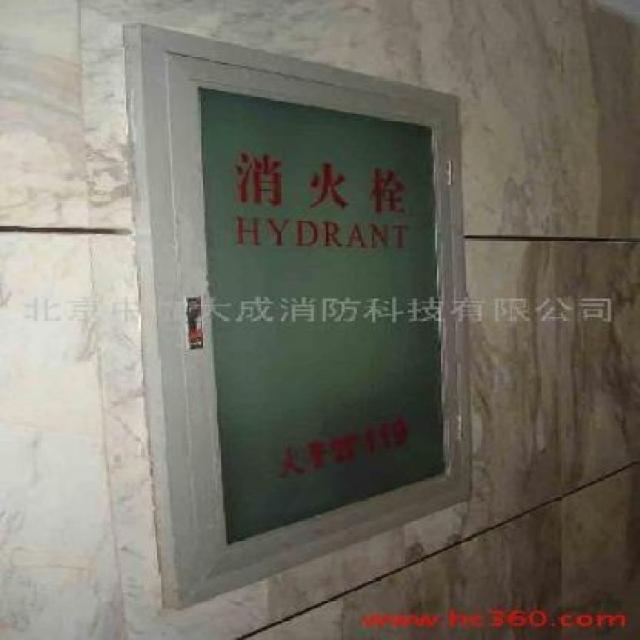firehydrant: (117, 18, 485, 617)
